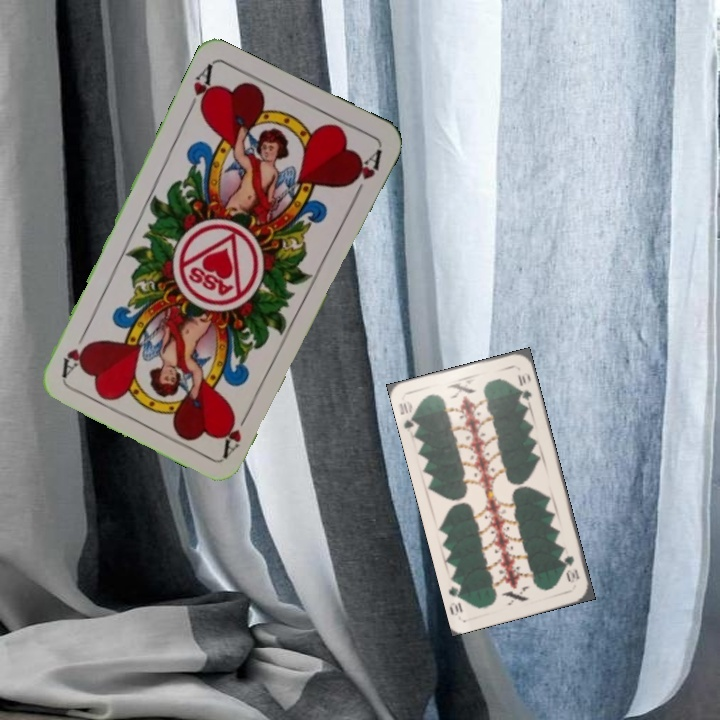G10: (395, 397, 421, 434), (560, 551, 582, 586)
HA: (219, 403, 254, 458), (183, 61, 217, 117)
